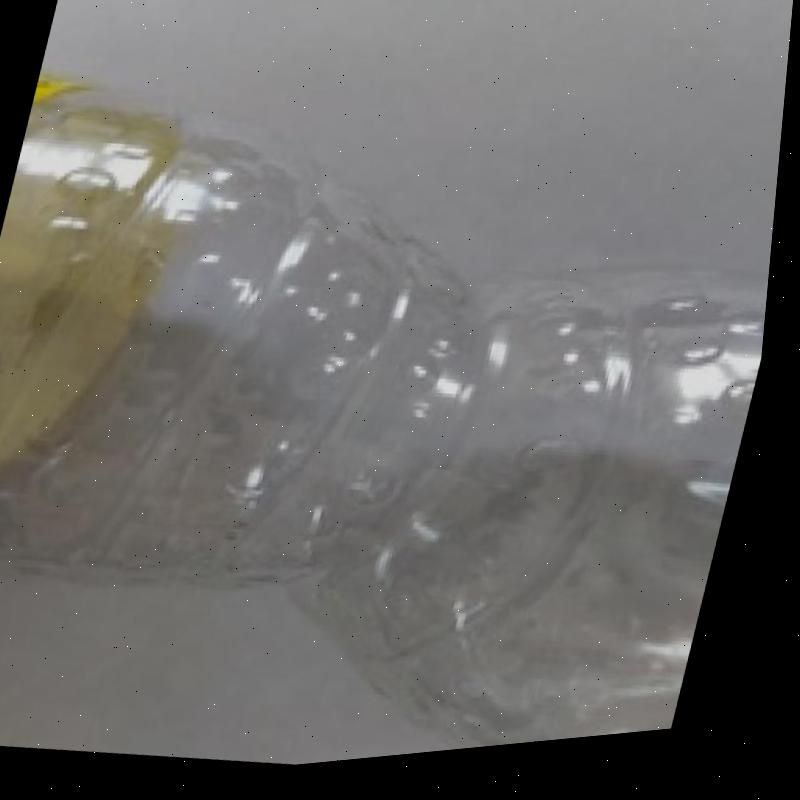botella: (0, 9, 795, 800)
